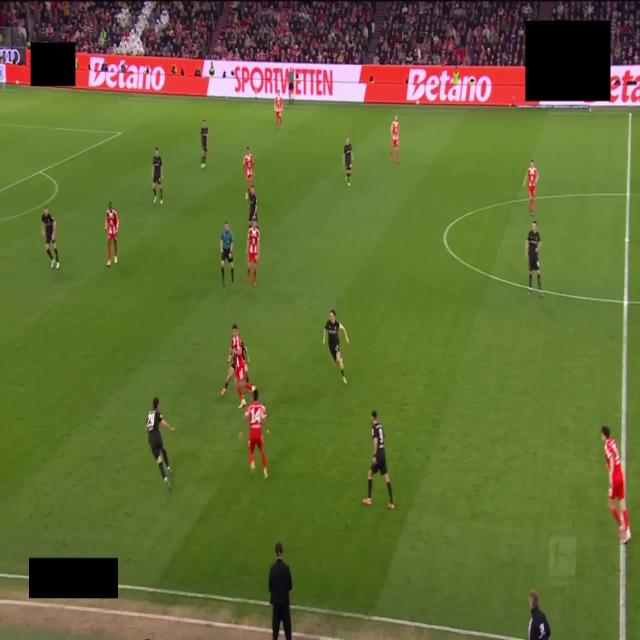player: (602, 426, 631, 543), (363, 411, 394, 509), (239, 388, 269, 479), (146, 398, 174, 488), (231, 324, 253, 407), (323, 310, 348, 383), (526, 221, 542, 296), (42, 208, 59, 269), (105, 202, 118, 266), (523, 160, 538, 215), (247, 219, 259, 287), (152, 148, 163, 204), (221, 351, 234, 396), (243, 147, 254, 199), (343, 137, 353, 186), (389, 116, 399, 162), (201, 120, 208, 168), (249, 186, 257, 227), (275, 91, 282, 128)
referee: (221, 221, 234, 286)
